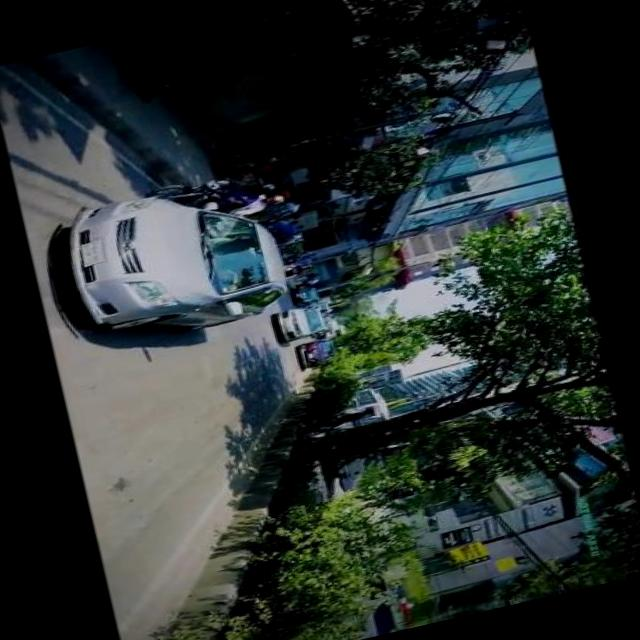bus: (340, 388, 386, 420)
car: (64, 170, 294, 355), (278, 302, 328, 343), (301, 336, 342, 369), (297, 284, 323, 308)
motorcycle: (152, 170, 238, 222)
